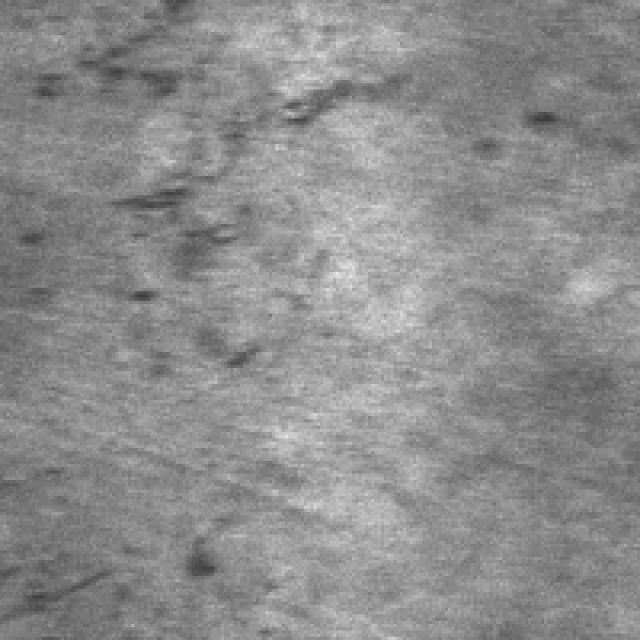rolled-in_scale: (83, 6, 429, 358), (3, 522, 227, 618)
